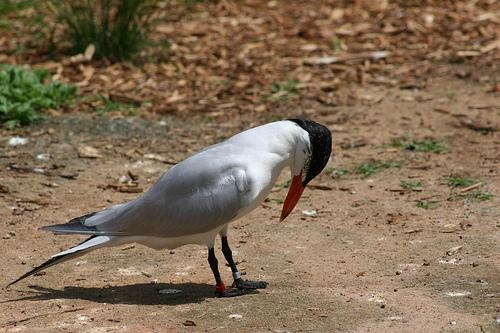bird: (7, 110, 335, 293)
